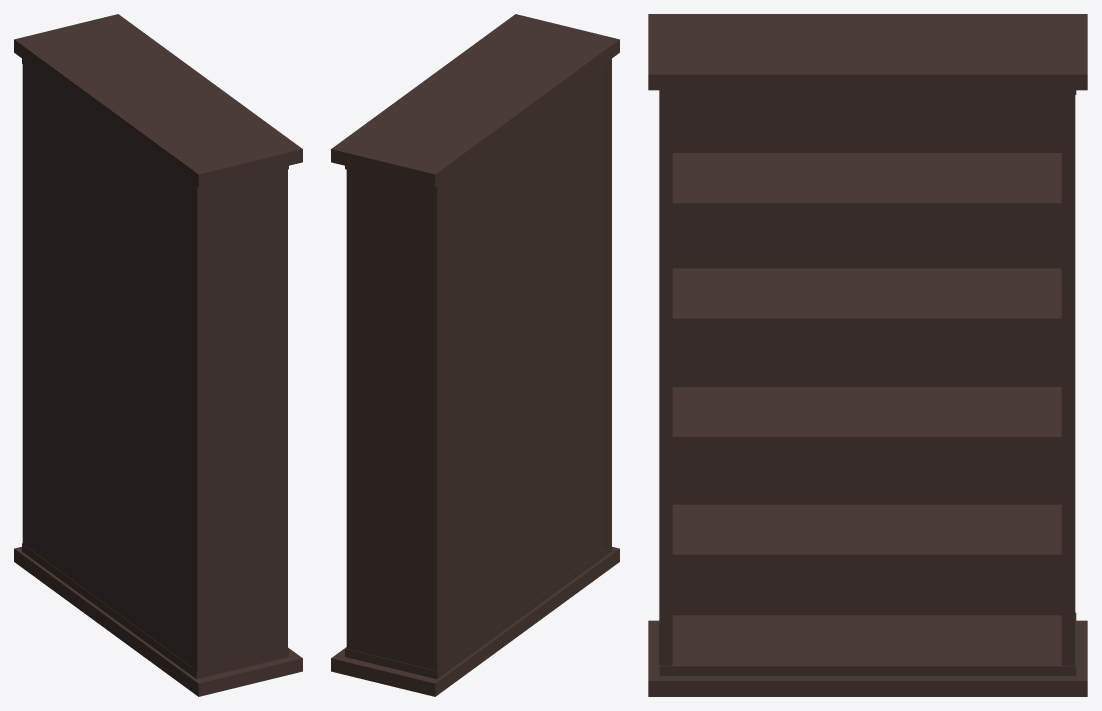
Rendered from SmallBookshelfEmpty.fbx.
The picture shows the model from 3 angles, left to right: view 1: azimuth 30°, elevation 25°; view 2: azimuth 150°, elevation 25°; view 3: azimuth 270°, elevation 25°; orthographic projection. The views are drawn at different scales.
Visible parts, largest first — view 1: Cube, Cube.002, Cube.001, Cube.065, Cube.003, Cube.004, Cube.008; view 2: Cube, Cube.003, Cube.001, Cube.065, Cube.002, Cube.004, Cube.008; view 3: Cube, Cube.001, Cube.004, Cube.005, Cube.007, Cube.006, Cube.056, Cube.065, Cube.003, Cube.002, Cube.008.
Boxes of the visible parts, left/top/right/bottom form: Cube: left=28, top=68, right=191, bottom=666; Cube.002: left=191, top=166, right=287, bottom=671; Cube.001: left=14, top=14, right=302, bottom=187; Cube.065: left=14, top=547, right=302, bottom=696; Cube.003: left=22, top=64, right=28, bottom=547; Cube.004: left=22, top=543, right=288, bottom=679; Cube.008: left=22, top=59, right=288, bottom=191; Cube: left=443, top=68, right=605, bottom=666; Cube.003: left=346, top=169, right=442, bottom=670; Cube.001: left=331, top=14, right=619, bottom=187; Cube.065: left=331, top=547, right=619, bottom=696; Cube.002: left=606, top=64, right=611, bottom=547; Cube.004: left=345, top=543, right=611, bottom=679; Cube.008: left=345, top=59, right=611, bottom=191; Cube: left=672, top=95, right=1061, bottom=615; Cube.001: left=648, top=14, right=1087, bottom=90; Cube.004: left=659, top=612, right=1076, bottom=675; Cube.005: left=672, top=504, right=1061, bottom=558; Cube.007: left=672, top=268, right=1061, bottom=322; Cube.006: left=672, top=387, right=1061, bottom=440; Cube.056: left=672, top=153, right=1061, bottom=206; Cube.065: left=648, top=620, right=1087, bottom=696; Cube.003: left=1061, top=95, right=1075, bottom=665; Cube.002: left=659, top=90, right=672, bottom=665; Cube.008: left=659, top=90, right=1076, bottom=94.
Size of the model in its own units: 102 by 491 by 314.
